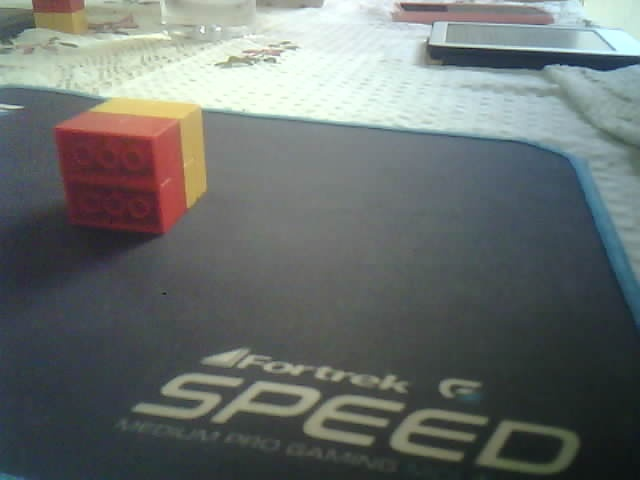lego: (52, 95, 208, 236), (29, 1, 89, 35)
